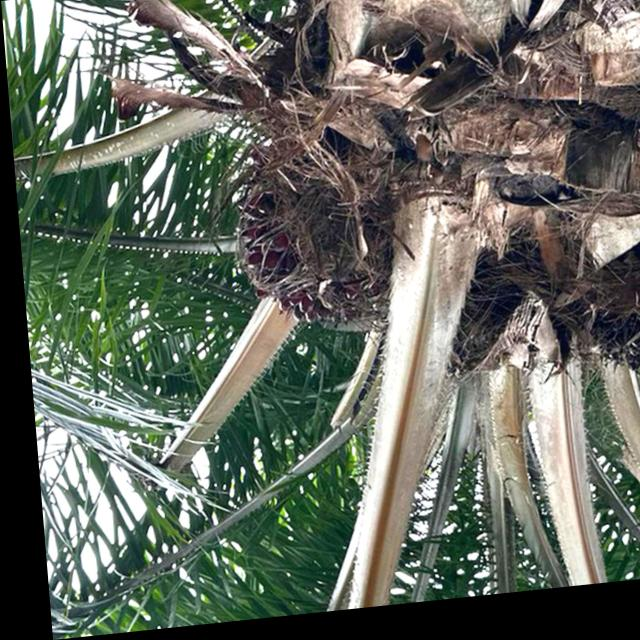ripe: (216, 158, 385, 342)
